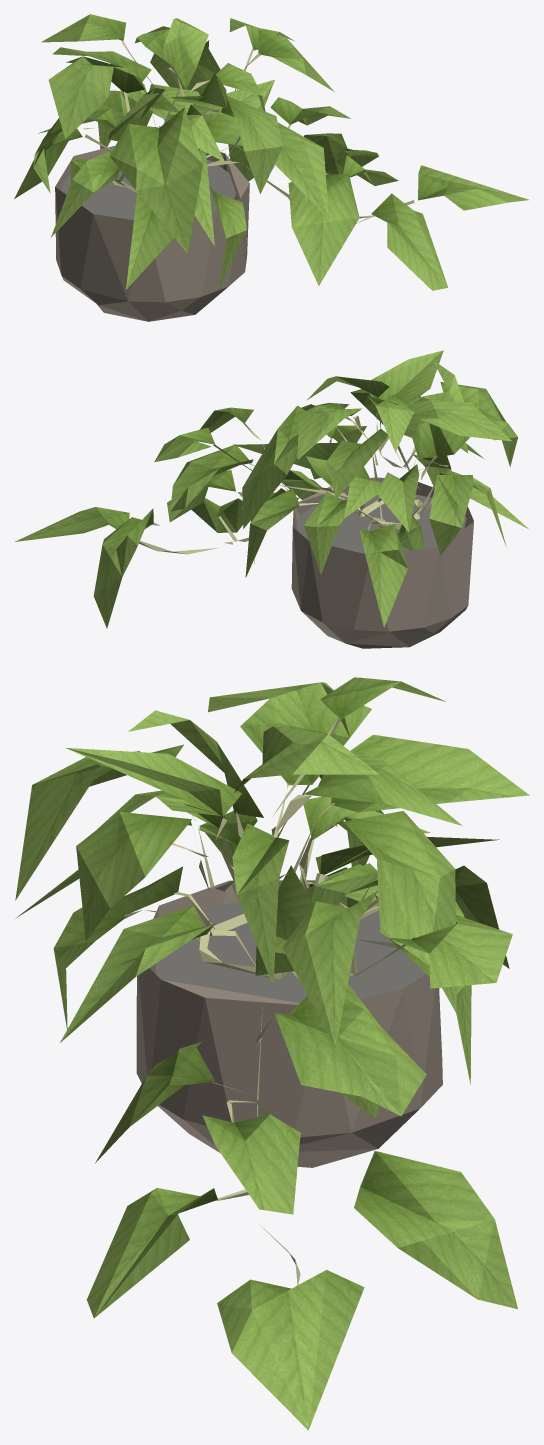
The model's file is bush_plant_2.glb.
3 views of the same model, one above another, from view 1: azimuth 30°, elevation 25°; view 2: azimuth 150°, elevation 25°; view 3: azimuth 270°, elevation 25° (orthographic). The views are drawn at different scales.
Parts seen in each view (by area): view 1: Augalas1_Untitled, Cylinder, Grid, Augalas35_Untitled.026; view 2: Augalas1_Untitled, Cylinder, Grid, Augalas35_Untitled.026; view 3: Augalas1_Untitled, Cylinder, Grid, Augalas35_Untitled.026.
Boxes of the visible parts, left/top/right/bottom form: Augalas1_Untitled: left=14, top=14, right=528, bottom=290; Cylinder: left=55, top=146, right=249, bottom=321; Grid: left=62, top=160, right=235, bottom=220; Augalas35_Untitled.026: left=83, top=41, right=414, bottom=223; Augalas1_Untitled: left=15, top=350, right=529, bottom=628; Cylinder: left=291, top=477, right=473, bottom=648; Grid: left=297, top=494, right=466, bottom=553; Augalas35_Untitled.026: left=139, top=412, right=448, bottom=554; Augalas1_Untitled: left=15, top=677, right=529, bottom=1430; Cylinder: left=136, top=880, right=442, bottom=1167; Grid: left=156, top=901, right=425, bottom=1002; Augalas35_Untitled.026: left=124, top=718, right=414, bottom=1285.
Bounding box in the file's own units: 0.609 × 0.3135 × 0.3382.
Materials: 4 (1 with a texture image).
